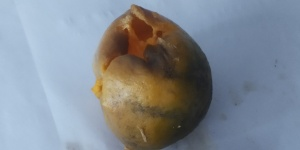BAD: (90, 5, 213, 150)
